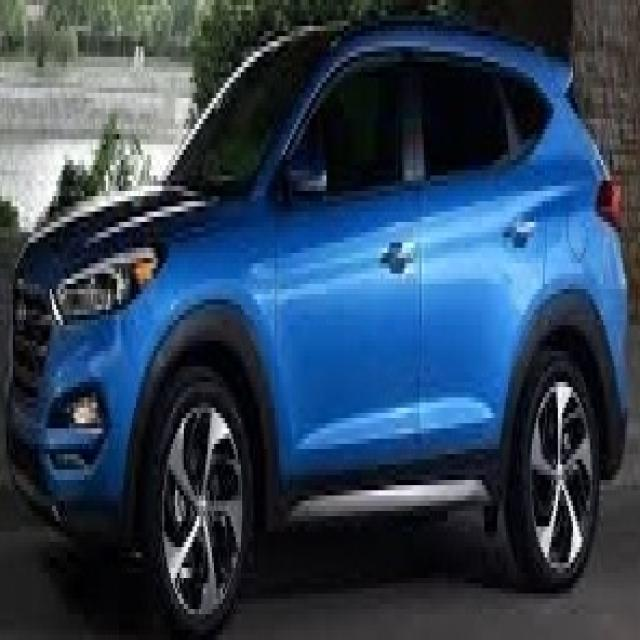blue: (6, 23, 631, 613)
